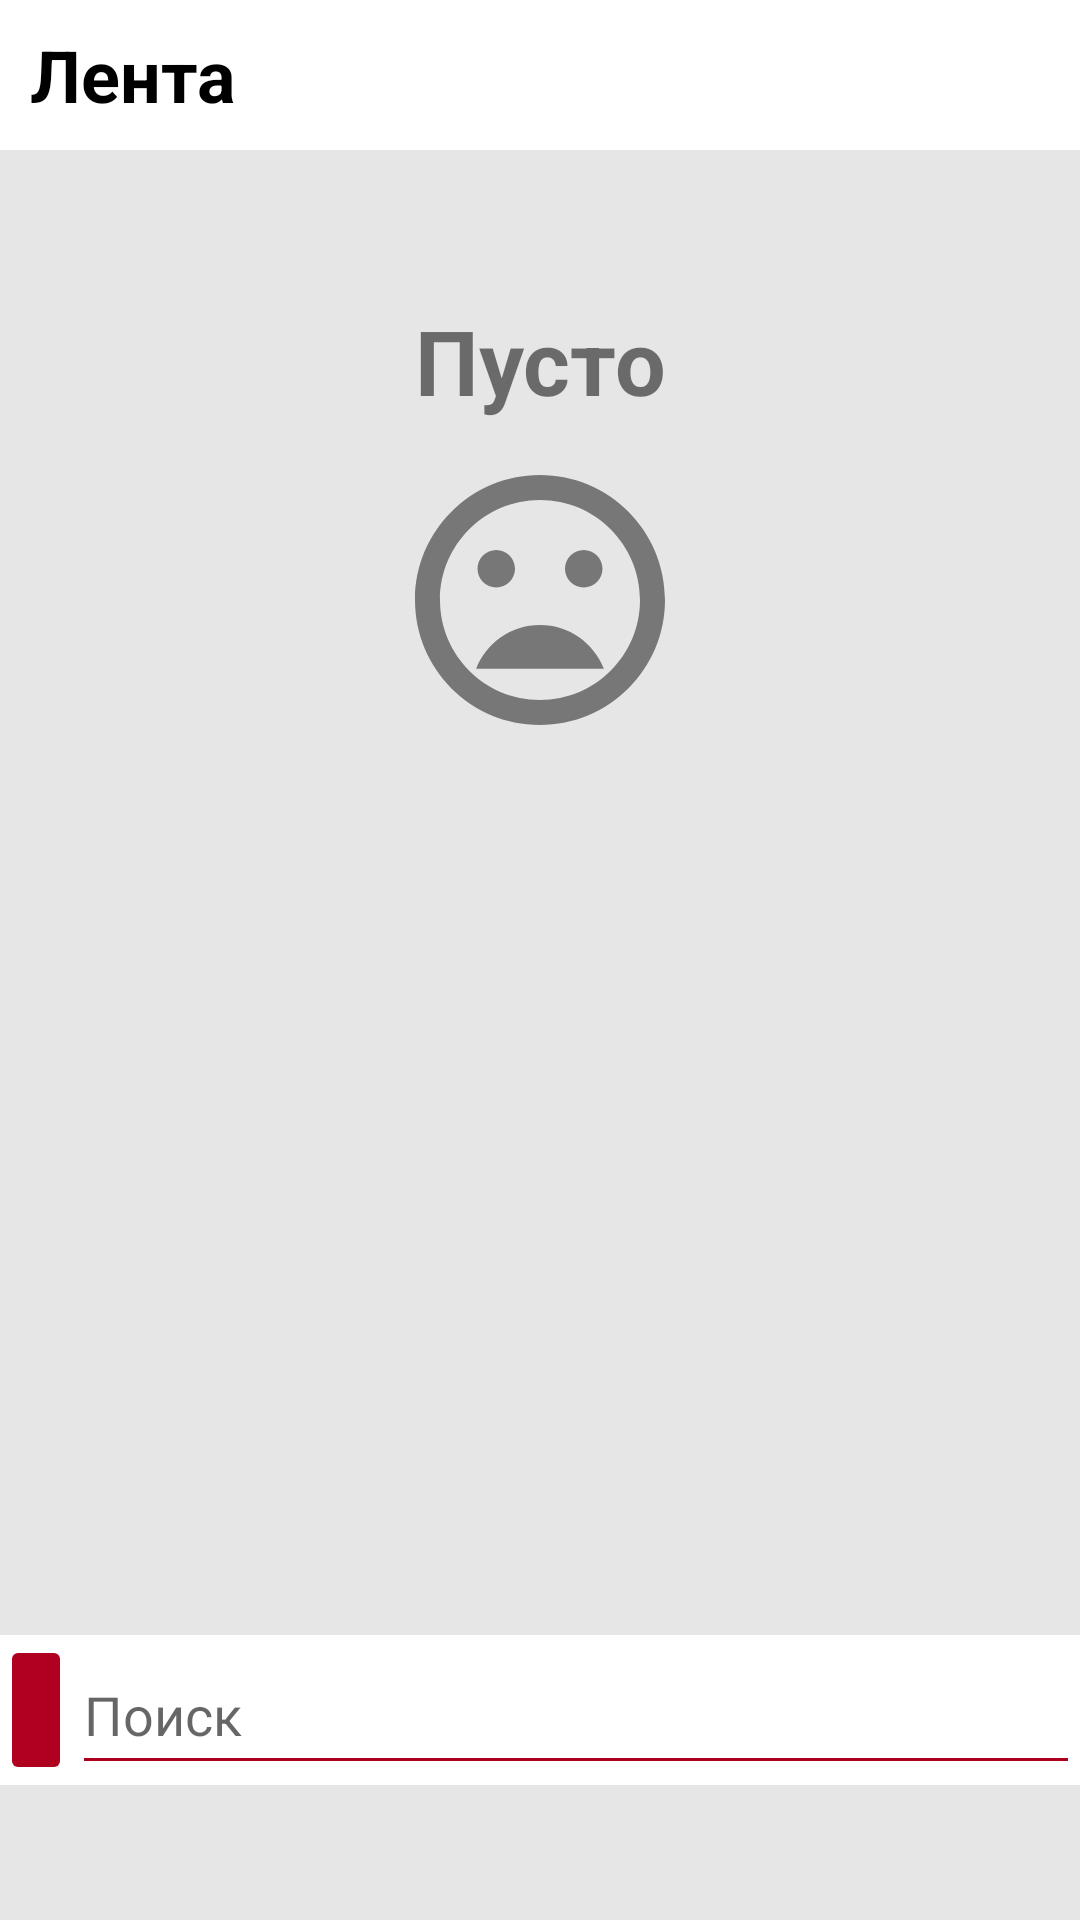

Where to tap for icons on this 1080*1920 app screen, as point (x, y):
mood bad: point (540, 600)
